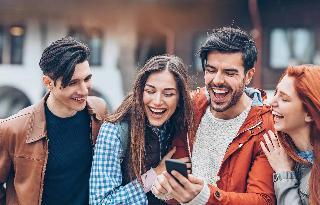person - v3 P: (153, 28, 274, 204), (0, 37, 107, 204), (90, 55, 195, 204), (261, 65, 319, 204)
